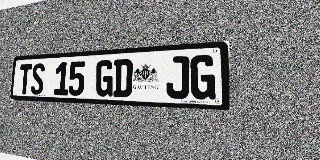1: (54, 62, 70, 95)
5: (68, 61, 85, 96)
D: (113, 59, 133, 97)
G: (190, 54, 216, 100), (95, 60, 114, 97)
J: (166, 56, 190, 99)
S: (31, 63, 45, 95)
T: (18, 64, 32, 94)
